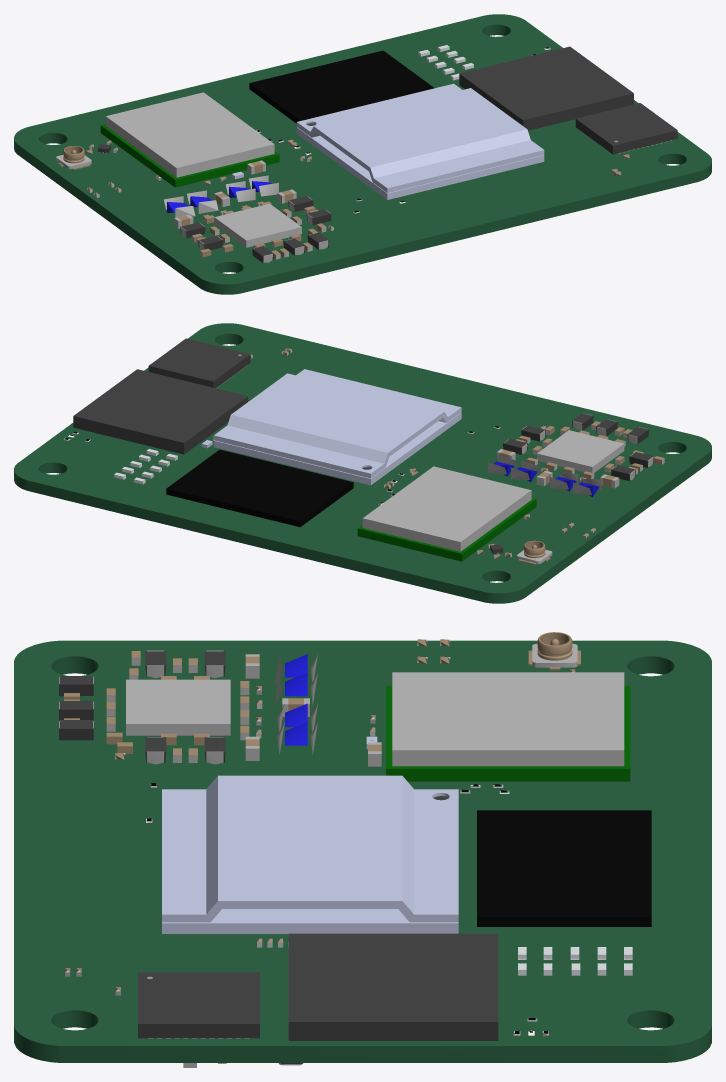
File: pigeon-cm5.glb
3 views of the same model, one above another, from view 1: azimuth 30°, elevation 25°; view 2: azimuth 150°, elevation 25°; view 3: azimuth 270°, elevation 25° (orthographic). The views are drawn at different scales.
Parts seen in each view (by area): view 1: pigeon-cm5; view 2: pigeon-cm5; view 3: pigeon-cm5.
Boxes of the visible parts, x1,y1,x2,y2 form: pigeon-cm5: (14, 14, 711, 294); pigeon-cm5: (14, 323, 711, 603); pigeon-cm5: (14, 632, 711, 1067).
Bounding box in the file's own units: 0.055 × 0.00462 × 0.04.
